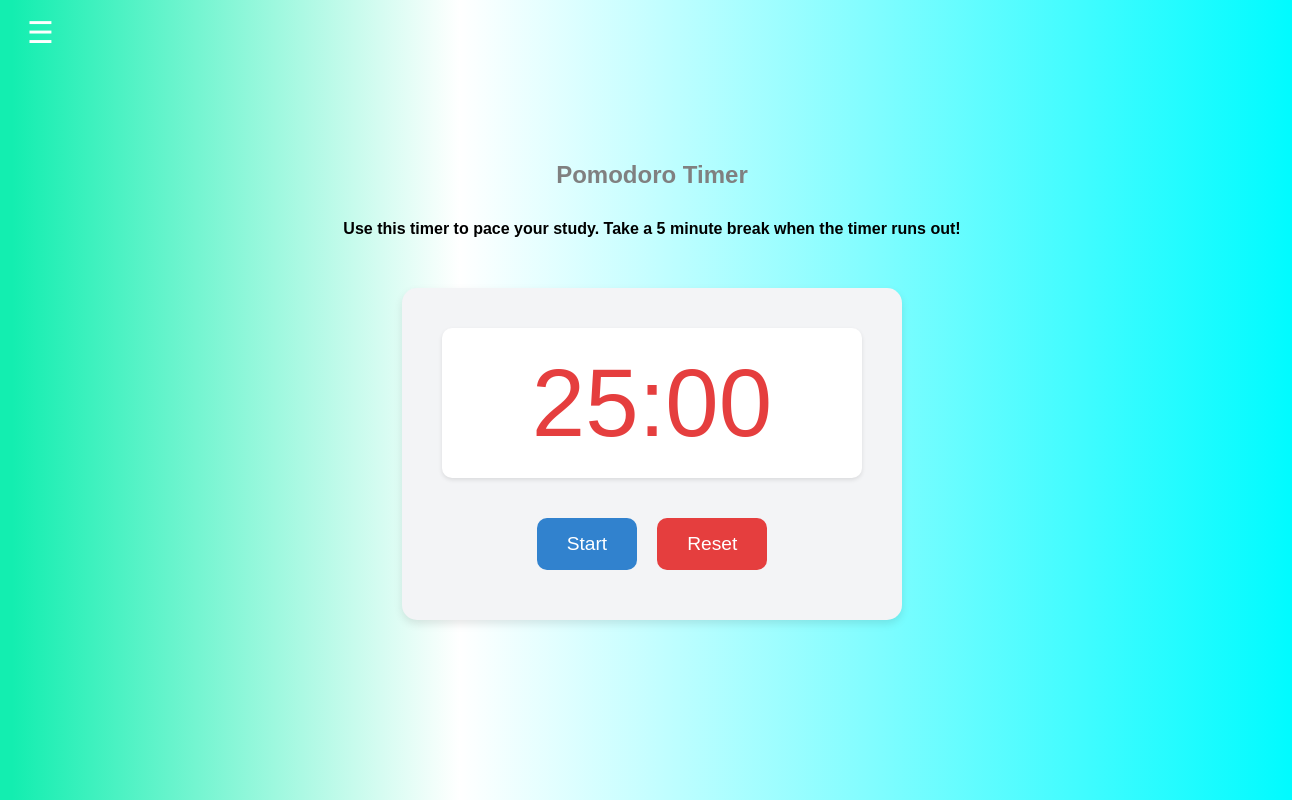
Test: Pomodoro Timer › starts and pauses timer
This screenshot has width=1292, height=800.
Click the button "Start" at (587, 544), box [537,518,637,570]
Wait 1000 ms
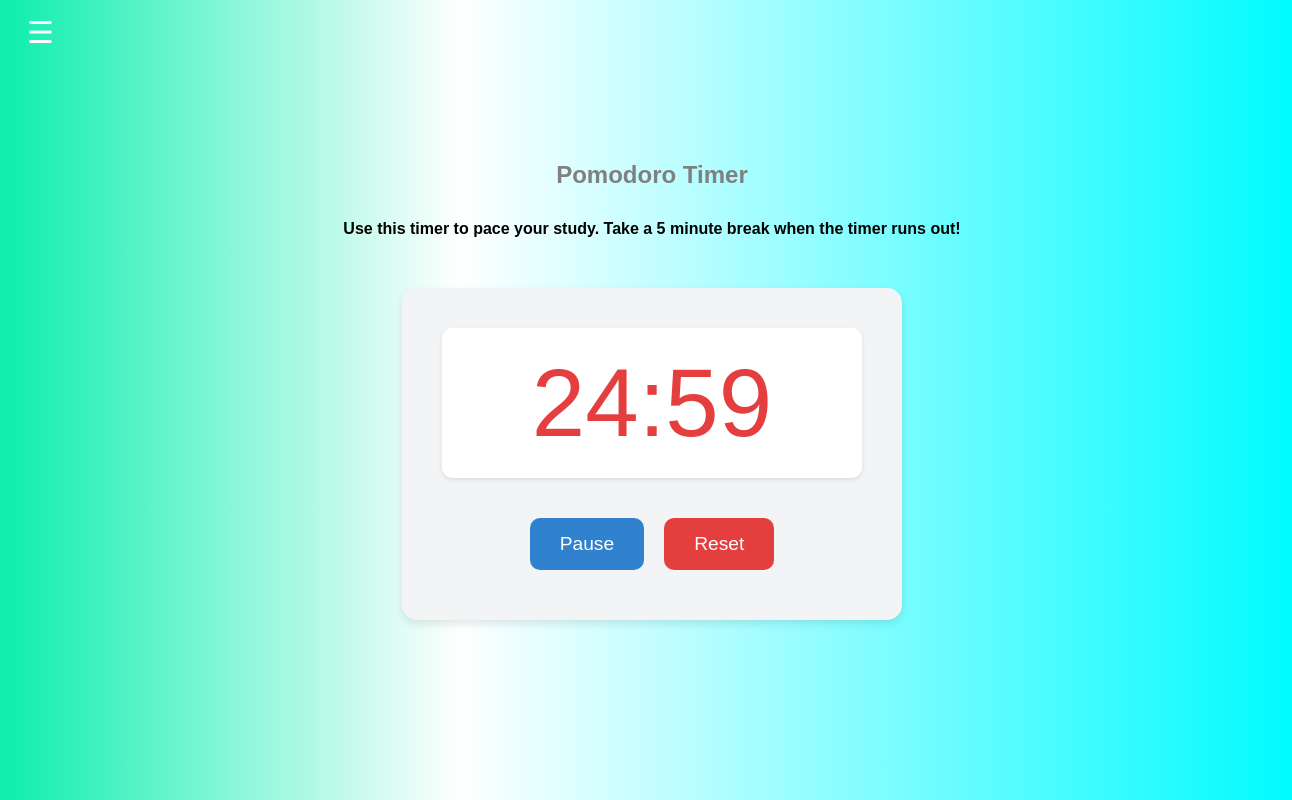
Now the text "24:59" is shown, box [442,328,862,478]
Click the button "Pause" at (587, 544), box [530,518,644,570]
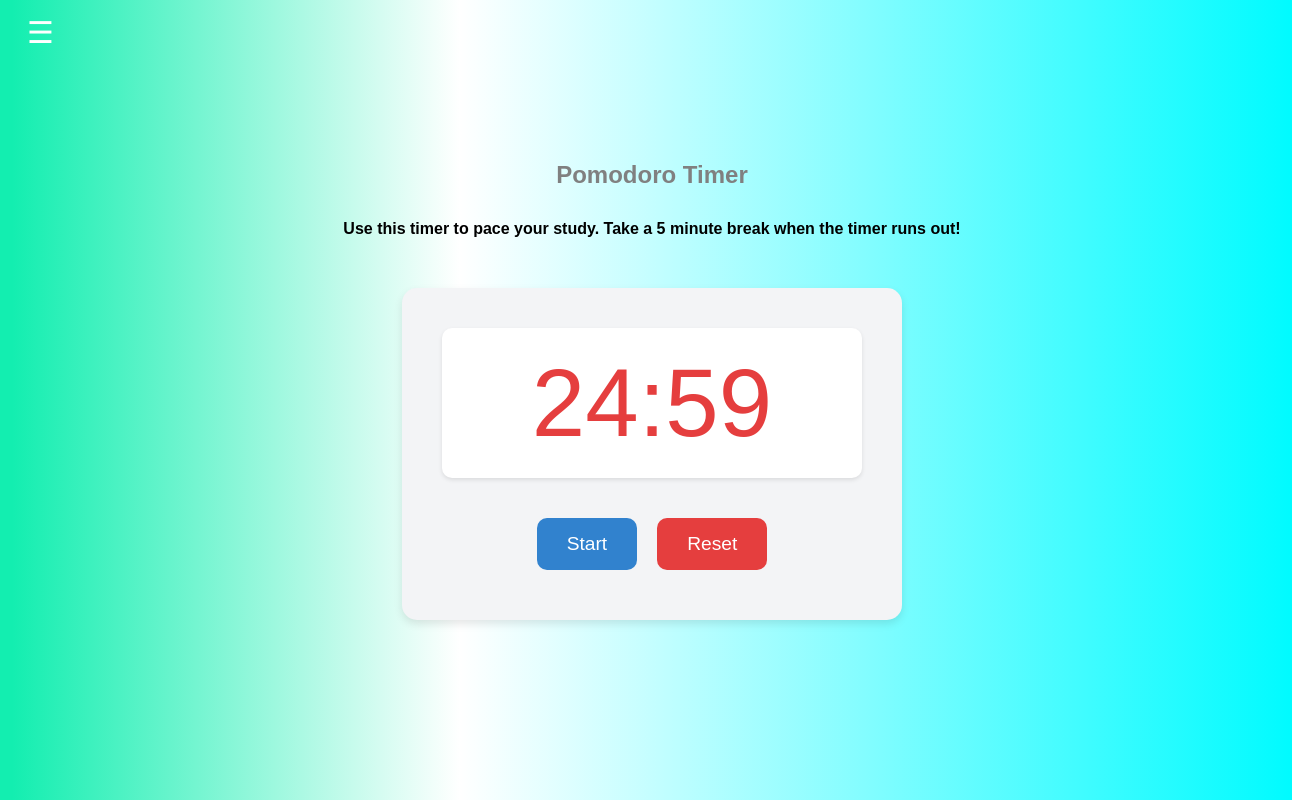
Now the button "Start" is shown, box [537,518,637,570]
